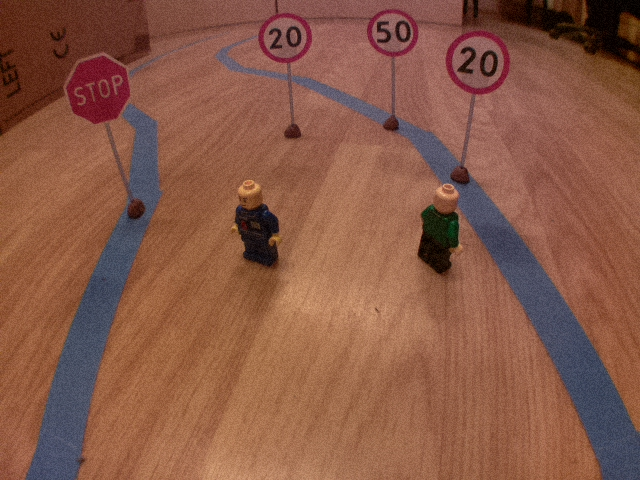LEGO_person: (228, 174, 284, 272), (413, 182, 465, 280)
ogr_20: (441, 26, 512, 100), (256, 10, 316, 65)
ogr_50: (364, 6, 420, 59)
stop: (62, 50, 135, 129)
